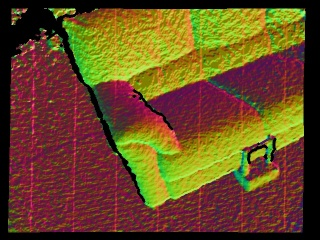station: (234, 137, 280, 191)
